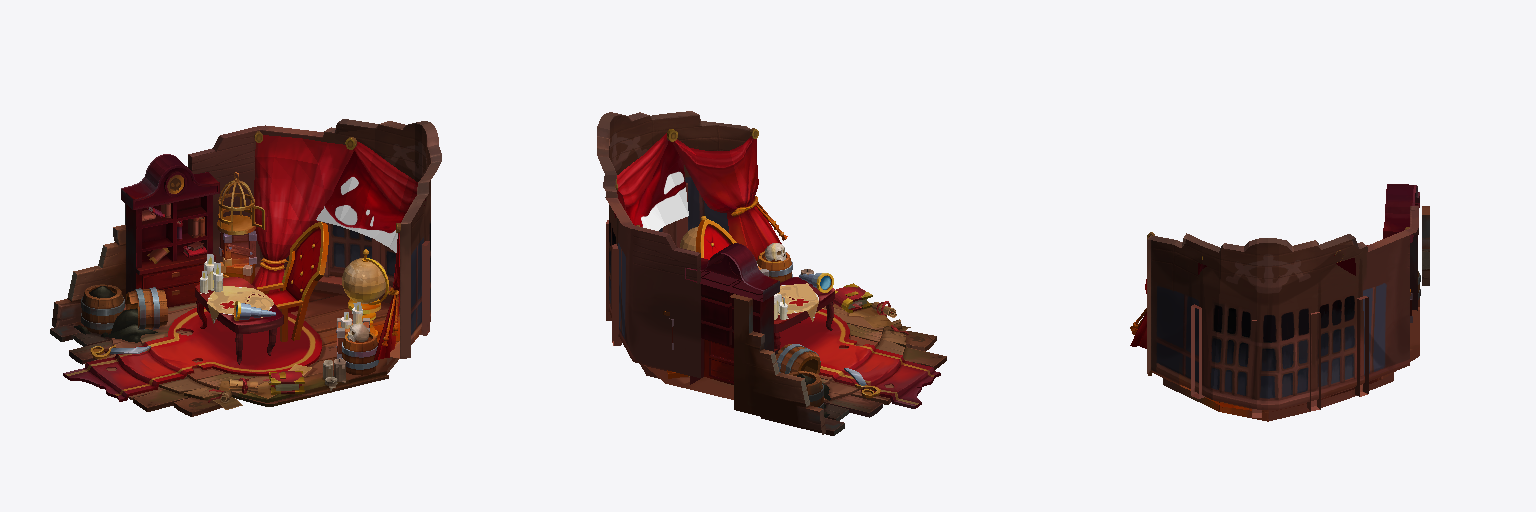
The picture shows the model from 3 angles: view 1: azimuth 30°, elevation 25°; view 2: azimuth 150°, elevation 25°; view 3: azimuth 270°, elevation 25°; orthographic projection.
Visible parts, largest first — view 1: 4, 3, 1, 2, alpha, chair, book; view 2: 1, 3, 4, 2, alpha, chair, book; view 3: 1, 4, 2.
Boxes of the visible parts, x1,y1,x2,y2 form: 4: [74, 154, 388, 409]; 3: [63, 135, 417, 401]; 1: [52, 119, 441, 402]; 2: [50, 289, 399, 416]; alpha: [202, 151, 425, 323]; chair: [257, 222, 328, 341]; book: [263, 371, 304, 394]; 1: [597, 111, 901, 434]; 3: [615, 129, 940, 408]; 4: [663, 216, 910, 417]; 2: [644, 303, 946, 435]; alpha: [614, 141, 818, 321]; chair: [696, 219, 736, 259]; book: [833, 283, 872, 312]; 1: [1147, 206, 1429, 421]; 4: [1383, 184, 1420, 322]; 2: [1148, 298, 1419, 412].
Size of the model in its own units: 619 by 335 by 474.
Materials: 5 (5 with a texture image).